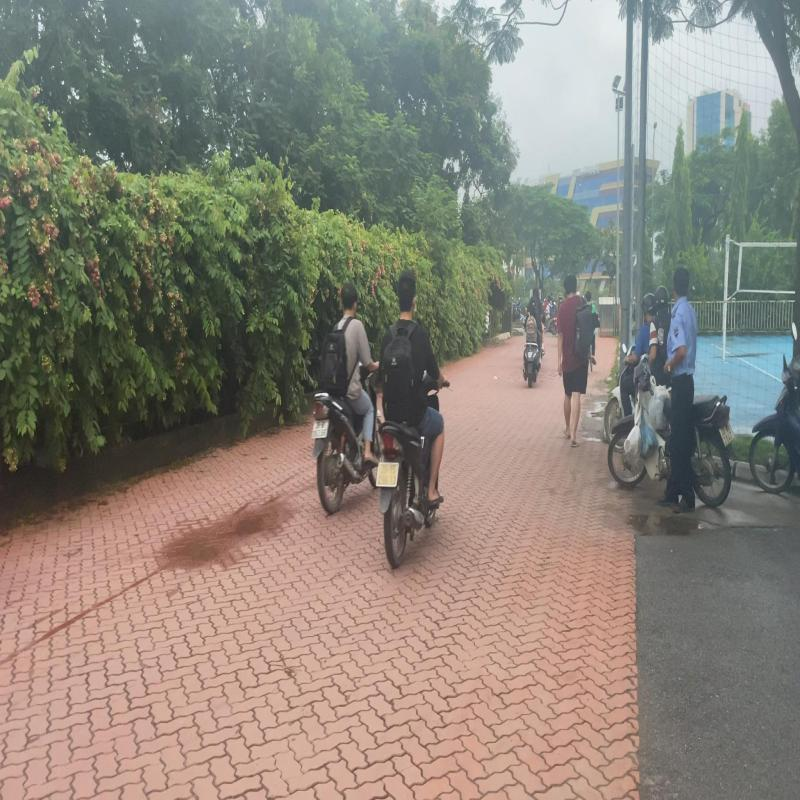licenseplate: (376, 462, 399, 488), (312, 420, 329, 438)
motorcyclist: (374, 267, 452, 572), (310, 280, 384, 514)
nohelmet: (397, 268, 416, 318), (342, 282, 358, 318)
